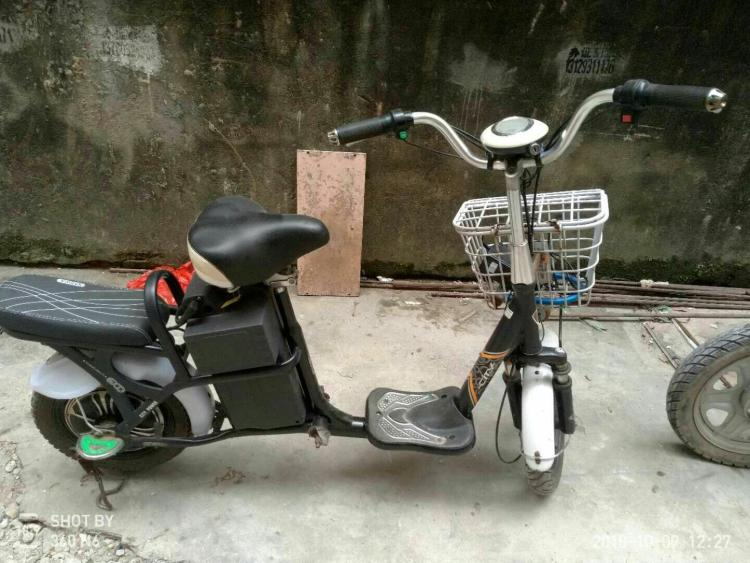电动车: (1, 74, 732, 519)
